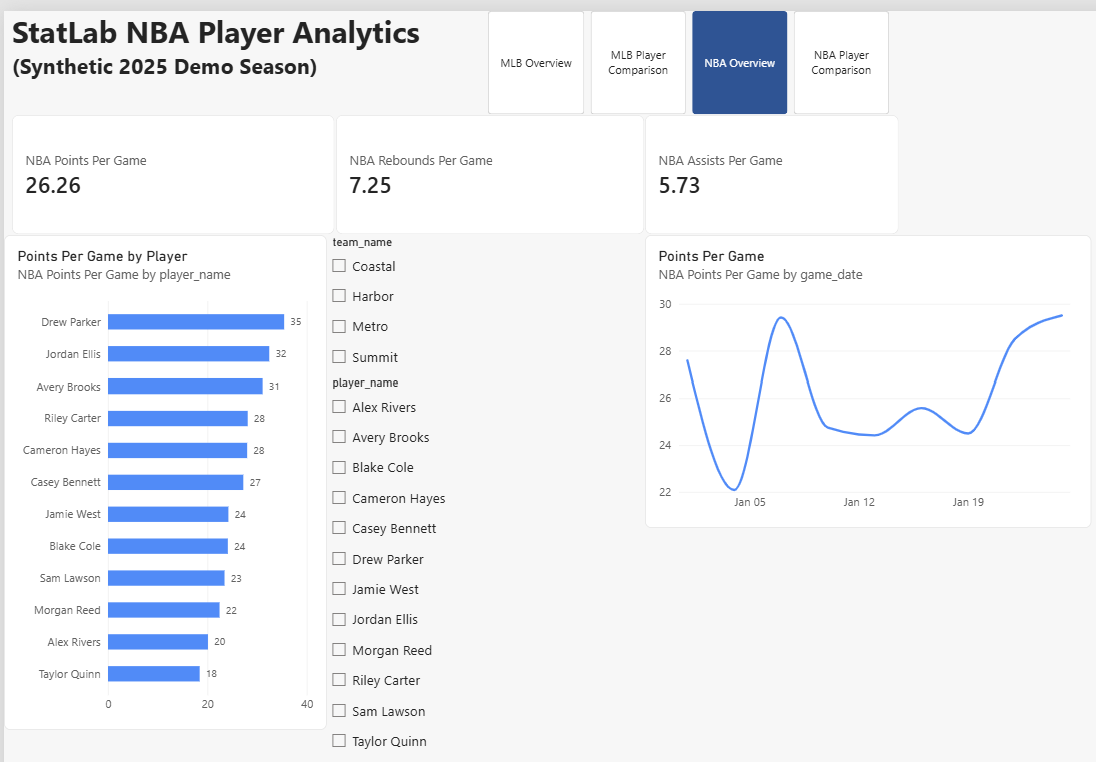

What the dashboard file says about the page in this screenshot:
{"tool":"powerbi","page":{"name":"NBA Overview","canvas":[1920,1080],"ordinal":2},"visuals":[{"type":"textbox","box":[10.5,0,673.7,129.8],"z":0},{"type":"cardVisual","fields":{"Data":["public mlb_game_log.NBA Points Per Game"]},"box":[10.5,129.8,403.5,149.1],"z":1},{"type":"cardVisual","fields":{"Data":["public mlb_game_log.NBA Rebounds Per Game"]},"box":[414,129.8,384.2,149.1],"z":2},{"type":"cardVisual","fields":{"Data":["public mlb_game_log.NBA Assists Per Game"]},"box":[800,129.8,317.5,149.1],"z":3},{"type":"clusteredBarChart","title":"Points Per Game by Player","fields":{"Category":["public nba_game_log.player_name"],"Y":["public mlb_game_log.NBA Points Per Game"]},"box":[0,278.9,403.5,617.5],"z":4},{"type":"slicer","fields":{"Values":["public nba_game_log.team_name"]},"box":[403.5,278.9,403.5,177.2],"z":5},{"type":"slicer","fields":{"Values":["public nba_game_log.player_name"]},"box":[403.5,456.1,403.5,515.8],"z":6},{"type":"lineChart","title":"Points Per Game","fields":{"Category":["public nba_game_log.game_date"],"Y":["public mlb_game_log.NBA Points Per Game"]},"box":[800,278.9,557.9,364.9],"z":7},{"type":"pageNavigator","box":[605.3,0,503.5,129.8],"z":8}]}

Visuals, with their boxes on the page's 1920x1080 design canvas (x1, y1, x2, y2). These are canvas units, not pixel positions in the 1096x762 screenshot, which may show the page scaled, cropped or inside an application window:
textbox: [10,0,684,130]
cardVisual - public mlb_game_log.NBA Points Per Game: [10,130,414,279]
cardVisual - public mlb_game_log.NBA Rebounds Per Game: [414,130,798,279]
cardVisual - public mlb_game_log.NBA Assists Per Game: [800,130,1118,279]
"Points Per Game by Player" clusteredBarChart: [0,279,404,896]
slicer - public nba_game_log.team_name: [404,279,807,456]
slicer - public nba_game_log.player_name: [404,456,807,972]
"Points Per Game" lineChart: [800,279,1358,644]
pageNavigator: [605,0,1109,130]
